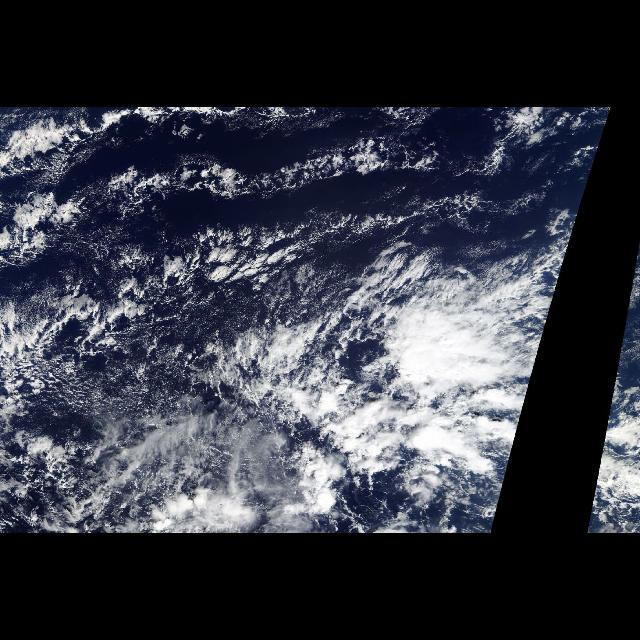Fish: (1, 107, 536, 329)
Sugar: (8, 341, 264, 523), (152, 274, 338, 324)
